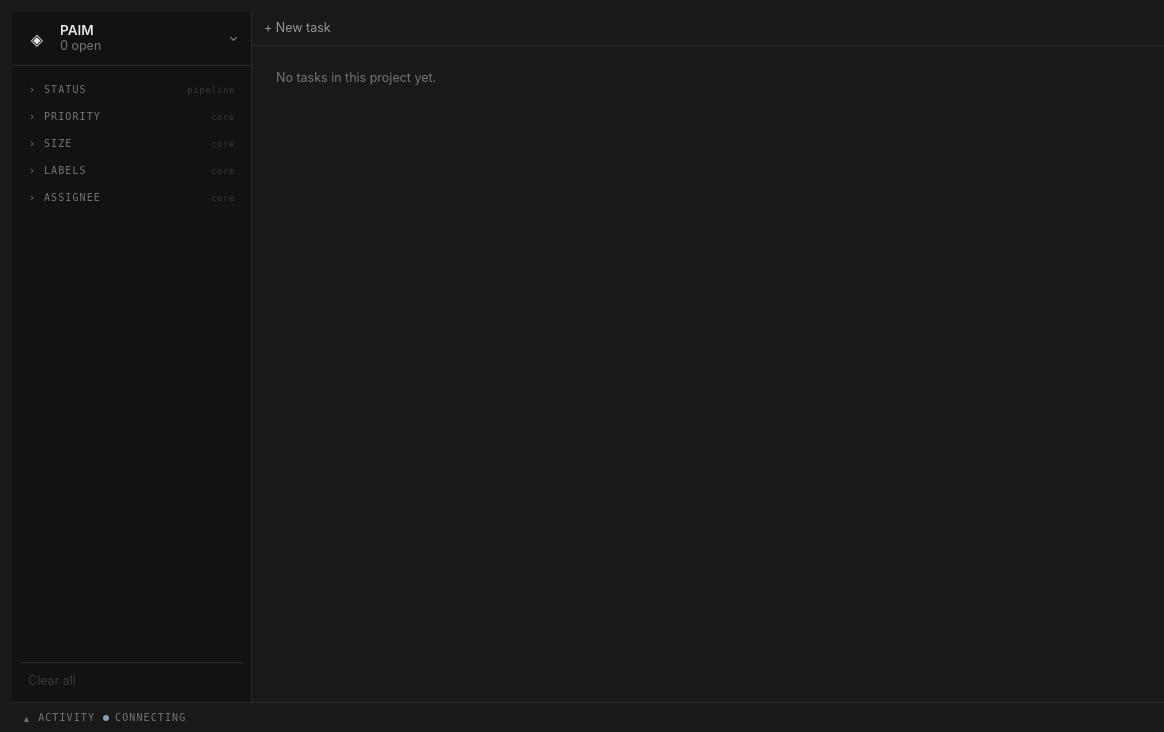
Test: opening › closes on Escape without creating anything
Click the button "+ New task": (297, 28) [264,20,331,37]
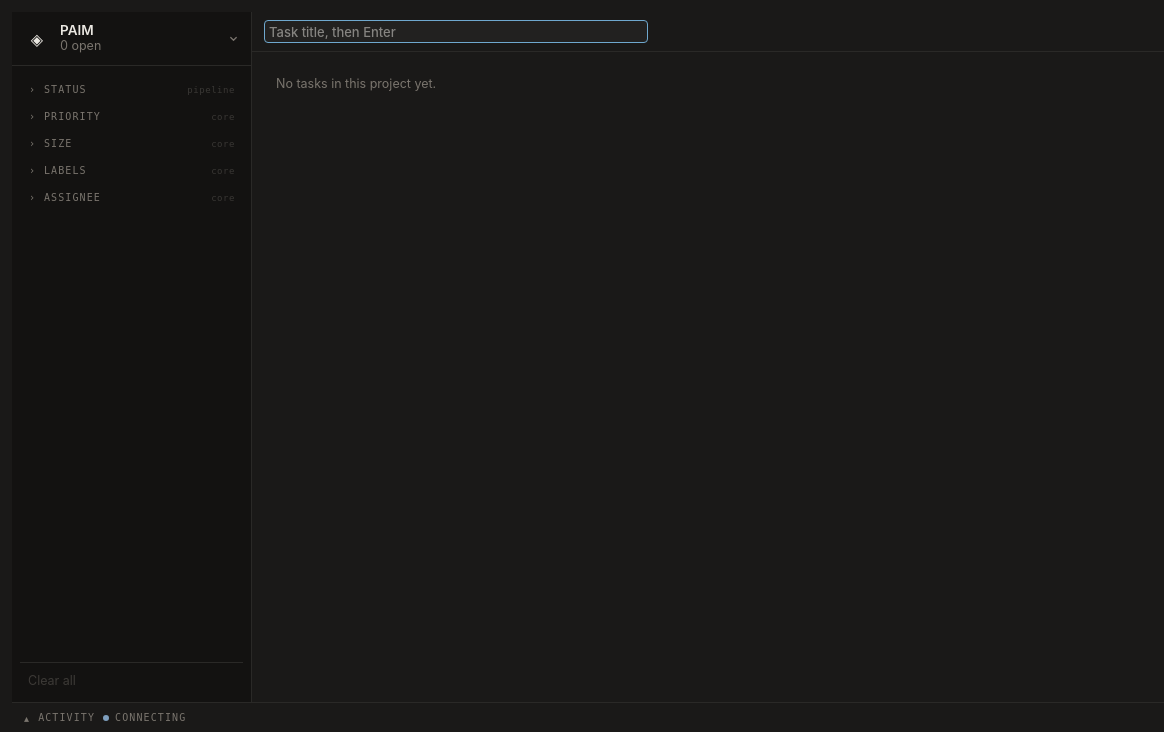
In the field named "New task title": (456, 32) [264,20,648,43], type "Something"
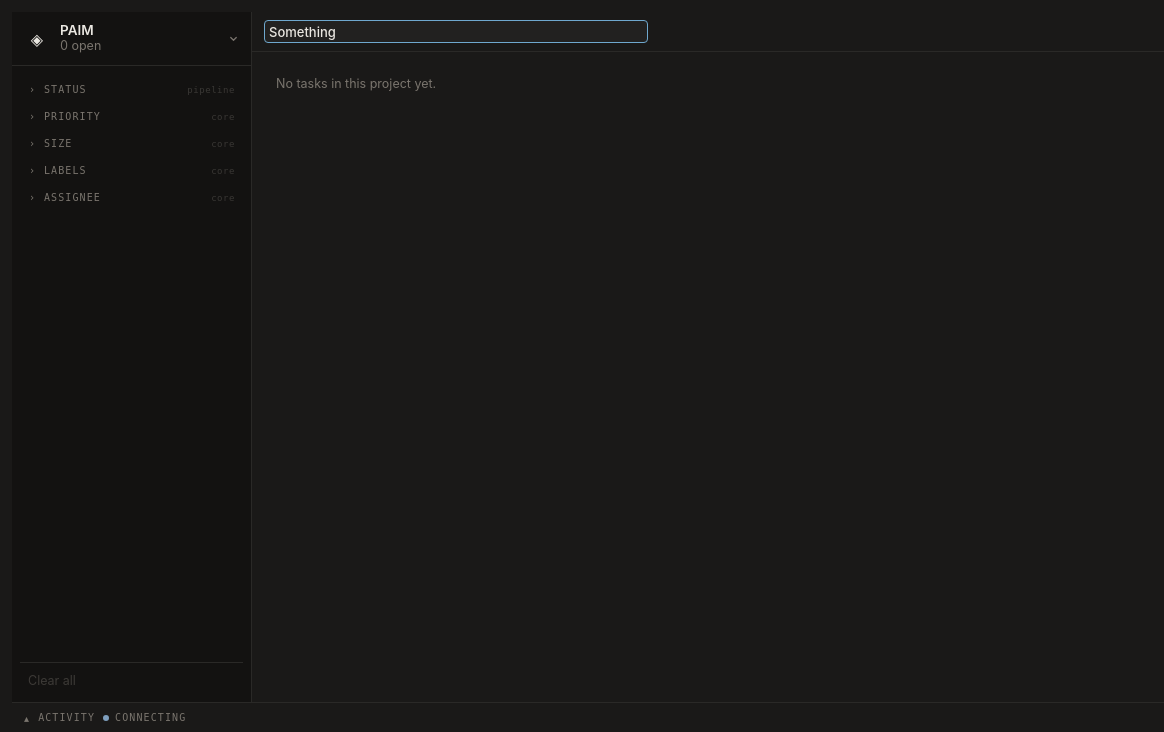
Press Escape
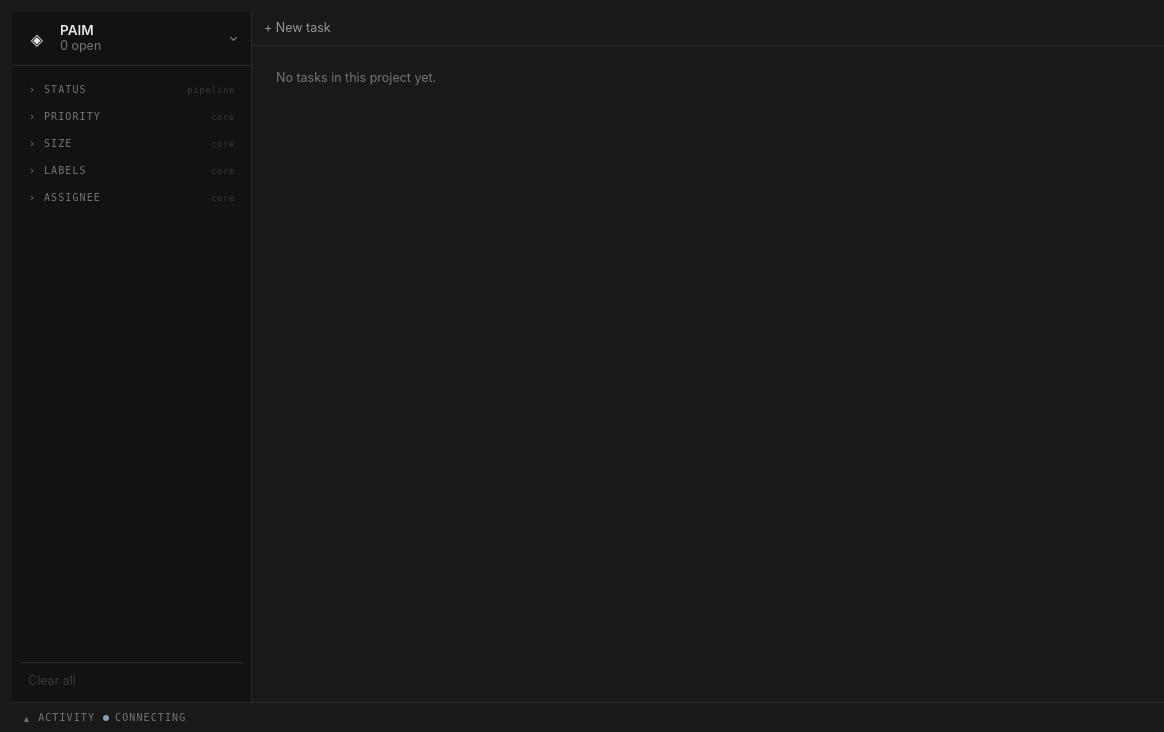
Expected: the button "+ New task" is shown, [264,20,331,37]
